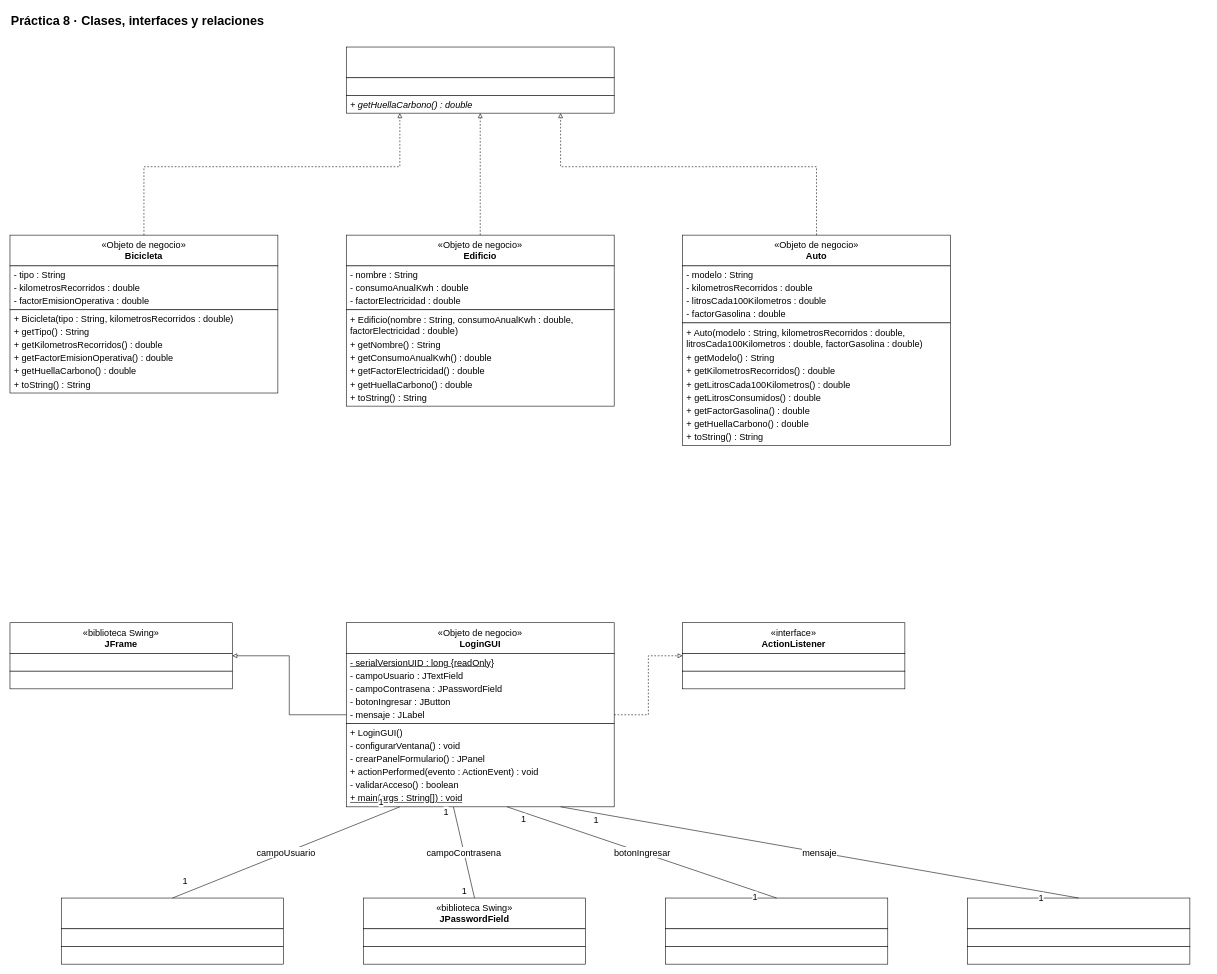
The diagram is 1217 pixels wide and 974 high, and some of its shapes have lost their labels. The shapes that lost their labels are listed below. From the top down, each one's centre as x and y in pixels, then its label:
pixel 480 62: «interface» HuellaCarbono
pixel 172 913: «biblioteca Swing» JTextField
pixel 776 913: «biblioteca Swing» JButton
pixel 1078 913: «biblioteca Swing» JLabel
